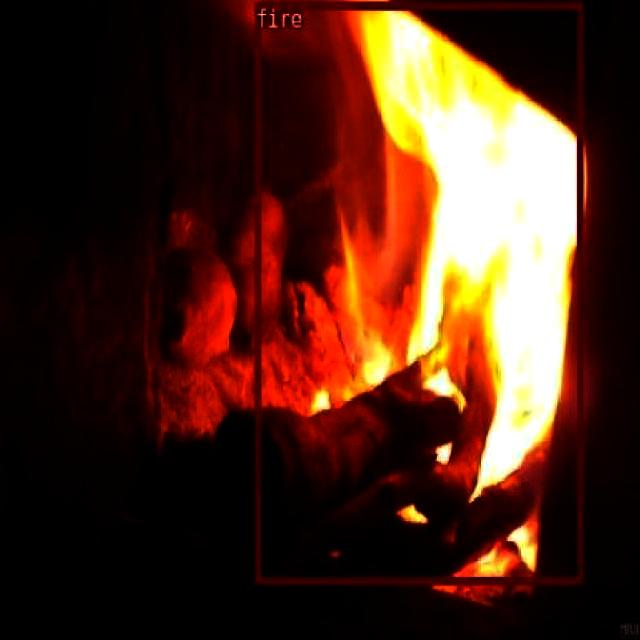fire: (253, 0, 582, 582)
